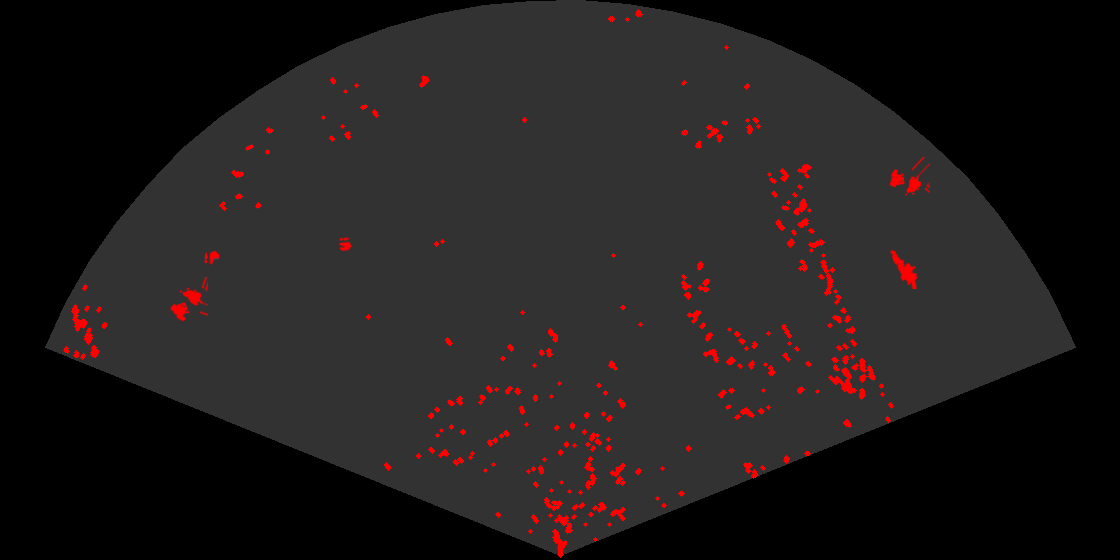ball: (203, 249, 221, 266), (337, 236, 354, 251)
cage: (169, 277, 208, 323), (888, 157, 930, 197)
frogman: (889, 247, 919, 289)
